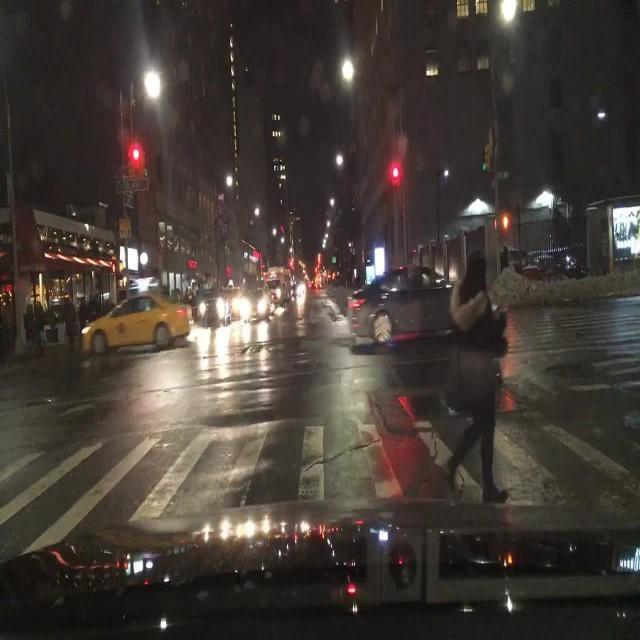normal: (80, 282, 194, 364)
